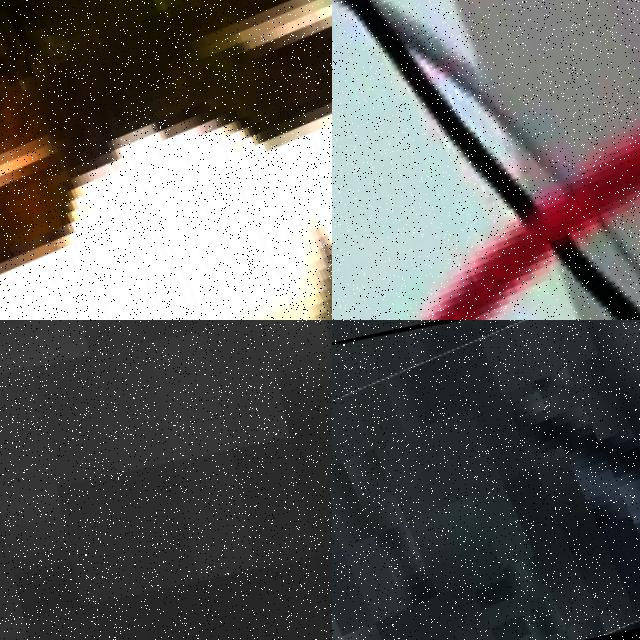0: (332, 320, 640, 640)
drone: (0, 0, 332, 320), (332, 0, 640, 320)
